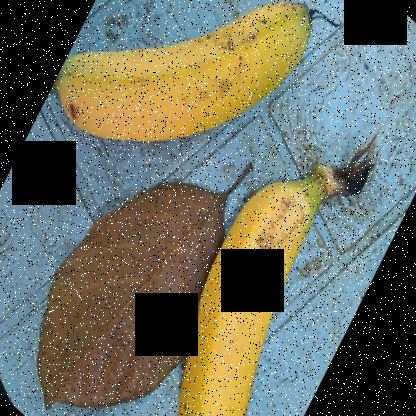freshripe: (161, 209, 321, 415)
ripe: (53, 0, 315, 152)
